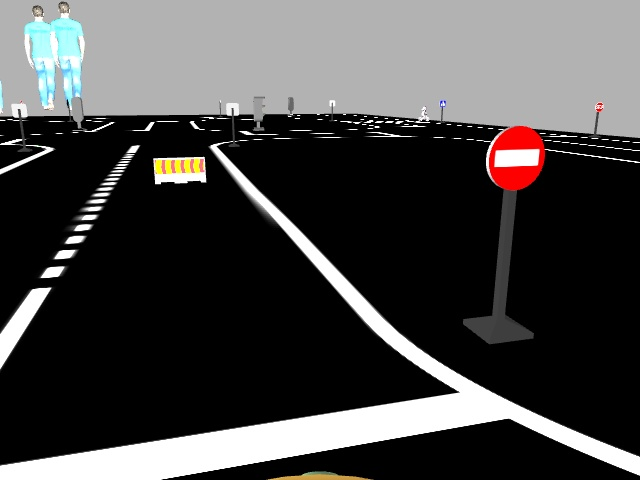ClosedRoadStand: (152, 158, 205, 182)
NoEntry: (487, 125, 544, 184)
